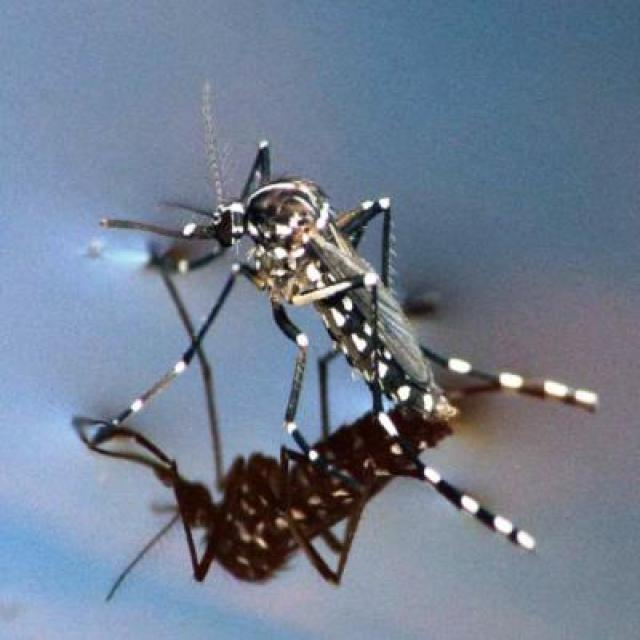antennae: (180, 82, 234, 206)
body: (217, 182, 458, 423)
insect: (97, 75, 598, 563)
legs: (362, 333, 600, 552), (99, 279, 314, 478), (342, 181, 413, 277)
mouthpart: (98, 210, 226, 247)
wings: (312, 220, 434, 386)
